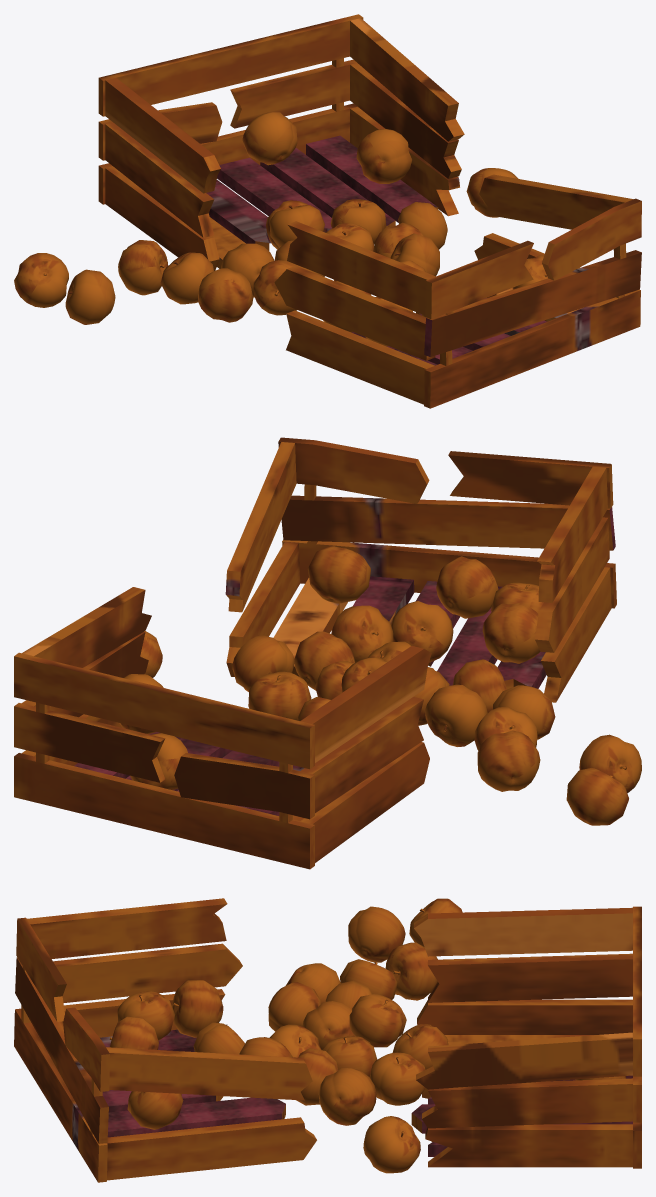
Rendered from broken fruit crate_9.fbx.
The picture shows the model from 3 angles, top to bottom: view 1: azimuth 30°, elevation 25°; view 2: azimuth 150°, elevation 25°; view 3: azimuth 270°, elevation 25°; orthographic projection. The views are drawn at different scales.
Visible parts, largest first — view 1: Cube.039, Cube.038, Plane.1971, Plane.1954, Plane.1966, Plane.1959, Plane.1958, Plane.1960, Plane.1964, Plane.1972, Plane.1953, Plane.1969 (+6 smaller); view 2: Cube.039, Cube.038, Plane.1960, Plane.1955, Plane.1957, Plane.1956, Plane.1970, Plane.1954, Plane.1961, Plane.1968, Plane.1953, Plane.1958 (+11 smaller); view 3: Cube.039, Cube.038, Plane.1950, Plane.1965, Plane.1958, Plane.1969, Plane.1953, Plane.1970, Plane.1960, Plane.1972, Plane.1956, Plane.1973 (+12 smaller).
Boxes of the visible parts, left/top/right/bottom form: Cube.039: left=98, top=14, right=464, bottom=270; Cube.038: left=274, top=174, right=641, bottom=408; Plane.1971: left=356, top=128, right=411, bottom=183; Plane.1954: left=14, top=253, right=68, bottom=307; Plane.1966: left=198, top=268, right=253, bottom=322; Plane.1959: left=242, top=112, right=297, bottom=165; Plane.1958: left=65, top=269, right=115, bottom=324; Plane.1960: left=118, top=240, right=168, bottom=295; Plane.1964: left=160, top=252, right=213, bottom=304; Plane.1972: left=253, top=260, right=296, bottom=315; Plane.1953: left=330, top=199, right=386, bottom=244; Plane.1969: left=269, top=205, right=324, bottom=247; Cube.039: left=14, top=587, right=431, bottom=869; Cube.038: left=225, top=437, right=616, bottom=702; Plane.1960: left=477, top=730, right=540, bottom=791; Plane.1955: left=436, top=556, right=498, bottom=618; Plane.1957: left=425, top=684, right=487, bottom=746; Plane.1956: left=308, top=546, right=370, bottom=603; Plane.1970: left=482, top=603, right=540, bottom=663; Plane.1954: left=566, top=768, right=628, bottom=825; Plane.1961: left=391, top=601, right=453, bottom=662; Plane.1968: left=331, top=605, right=393, bottom=662; Plane.1953: left=248, top=671, right=311, bottom=720; Plane.1958: left=579, top=734, right=641, bottom=792; Cube.039: left=411, top=906, right=641, bottom=1168; Cube.038: left=14, top=898, right=316, bottom=1182; Plane.1950: left=318, top=1068, right=376, bottom=1125; Plane.1965: left=363, top=1116, right=420, bottom=1173; Plane.1958: left=348, top=906, right=405, bottom=962; Plane.1969: left=349, top=994, right=406, bottom=1047; Plane.1953: left=369, top=1052, right=425, bottom=1105; Plane.1970: left=172, top=980, right=223, bottom=1037; Plane.1960: left=385, top=942, right=437, bottom=1000; Plane.1972: left=268, top=982, right=320, bottom=1031; Plane.1956: left=127, top=1091, right=183, bottom=1129; Plane.1973: left=117, top=991, right=175, bottom=1040.
Size of the model in its own units: 49.45 by 13.31 by 53.78.
